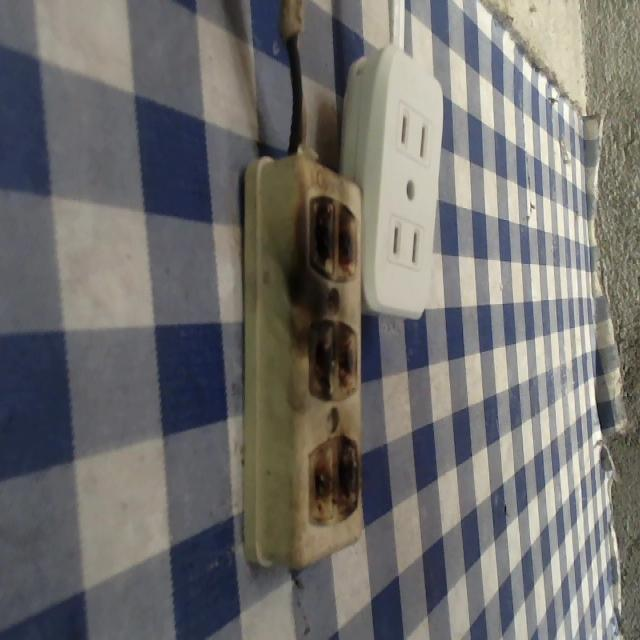-: (301, 187, 362, 284), (304, 311, 363, 405), (305, 428, 358, 520)
